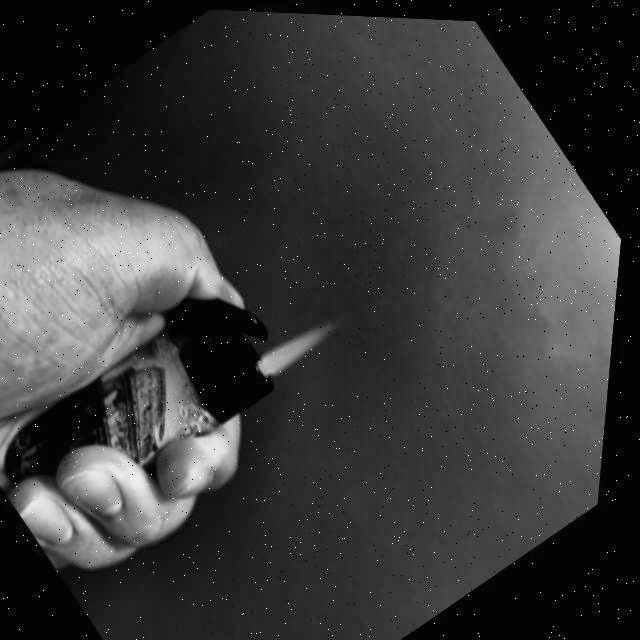Fire: (257, 301, 352, 385)
